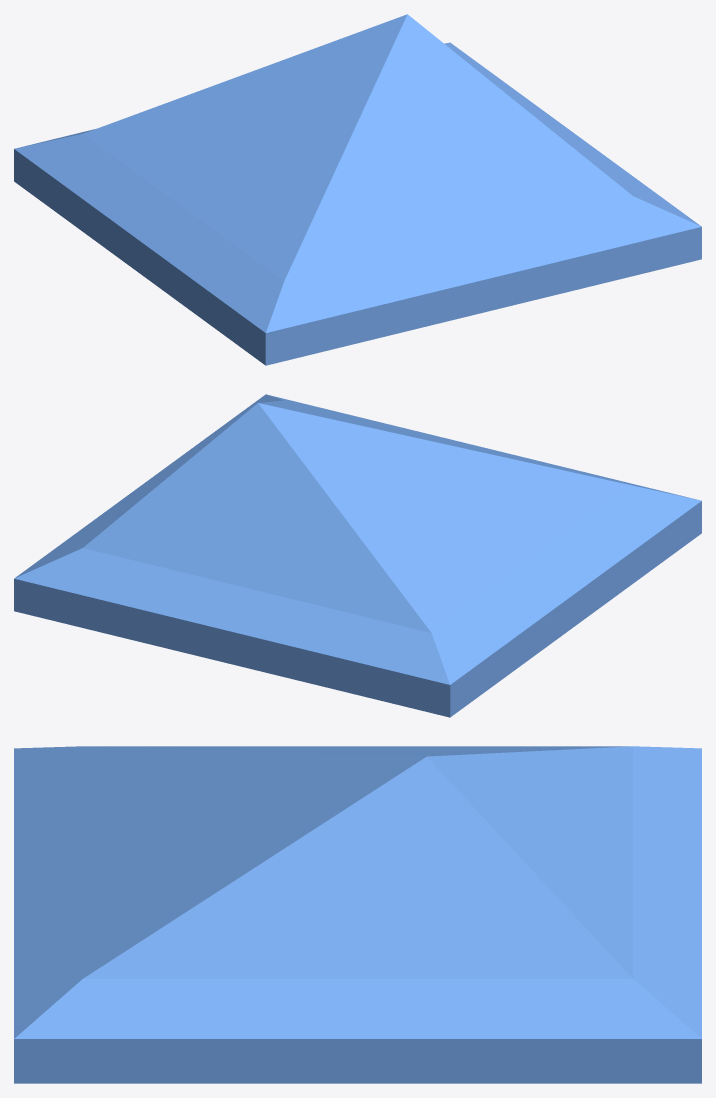
File: crystal_tile.glb
The picture shows the model from 3 angles, top to bottom: view 1: azimuth 30°, elevation 25°; view 2: azimuth 150°, elevation 25°; view 3: azimuth 270°, elevation 25°; orthographic projection. The views are drawn at different scales.
Parts seen in each view (by area): view 1: crystal_tile; view 2: crystal_tile; view 3: crystal_tile.
Boxes of the visible parts, x1=… form: crystal_tile: x1=14, y1=14, x2=701, y2=365; crystal_tile: x1=14, y1=394, x2=701, y2=717; crystal_tile: x1=14, y1=746, x2=701, y2=1083.
Size of the model in its own units: 0.7 by 0.26 by 0.7.
